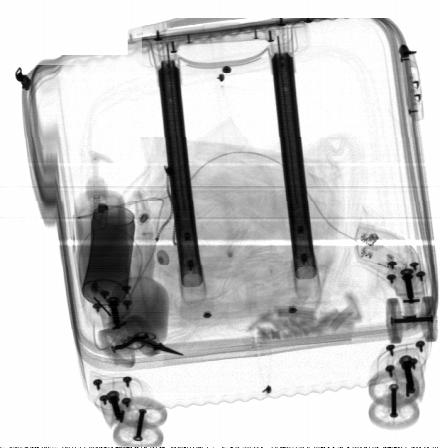Scissors: (124, 328, 186, 359)
